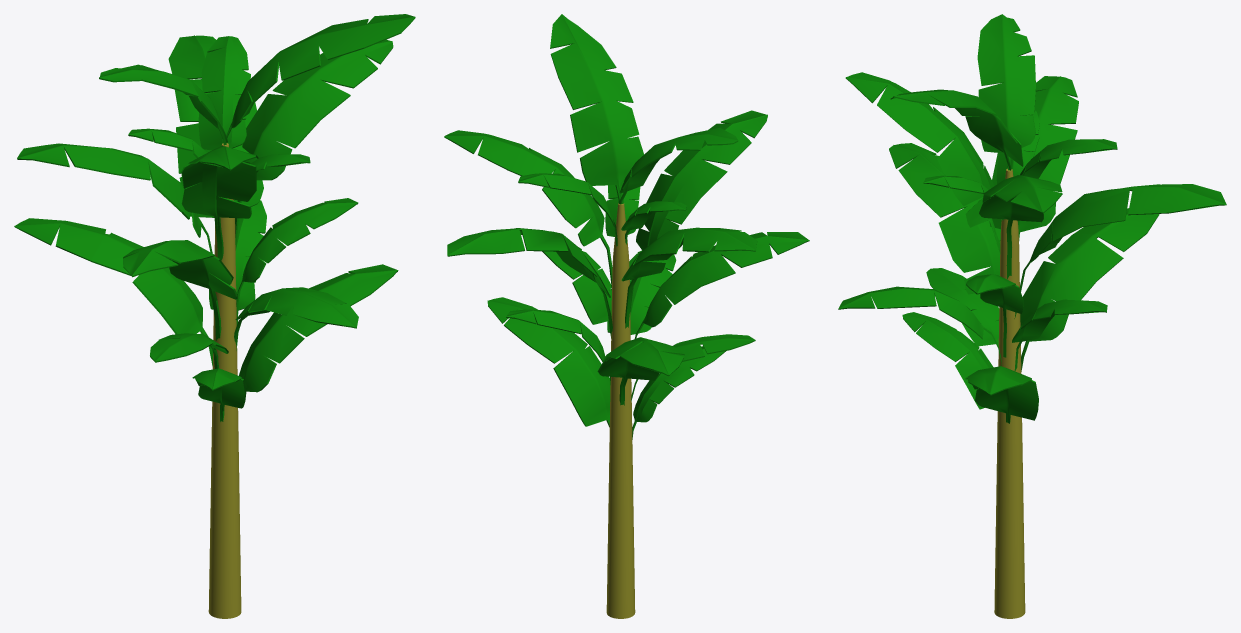
The model's file is BananaTreeDefault.fbx.
3 renders of one model, left to right at view 1: azimuth 30°, elevation 25°; view 2: azimuth 150°, elevation 25°; view 3: azimuth 270°, elevation 25°, orthographic. The views are drawn at different scales.
Parts seen in each view (by area): view 1: Leaves, Trunk; view 2: Leaves, Trunk; view 3: Leaves, Trunk.
Boxes of the visible parts, x1=… form: Leaves: x1=14, y1=14, x2=415, y2=421; Trunk: x1=208, y1=143, x2=241, y2=618; Leaves: x1=444, y1=14, x2=809, y2=439; Trunk: x1=606, y1=203, x2=635, y2=618; Leaves: x1=838, y1=14, x2=1226, y2=423; Trunk: x1=994, y1=168, x2=1025, y2=618.
Size of the model in its own units: 251 by 399 by 244.
